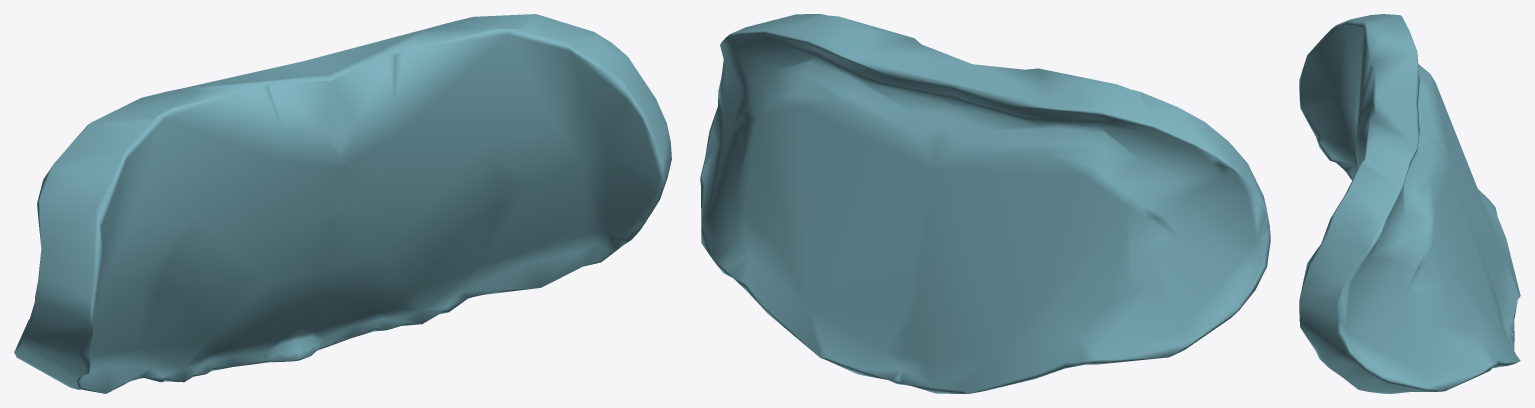
The picture shows the model from 3 angles, left to right: view 1: azimuth 30°, elevation 25°; view 2: azimuth 150°, elevation 25°; view 3: azimuth 270°, elevation 25°; orthographic projection. The views are drawn at different scales.
Parts seen in each view (by area): view 1: 颈5—颈6椎间盘; view 2: 颈5—颈6椎间盘; view 3: 颈5—颈6椎间盘.
Part boxes in pixels (left/top/right/bottom): 颈5—颈6椎间盘: left=14, top=14, right=671, bottom=393; 颈5—颈6椎间盘: left=700, top=14, right=1270, bottom=393; 颈5—颈6椎间盘: left=1299, top=14, right=1520, bottom=393.
Bounding box in the file's own units: 0.0461 × 0.0219 × 0.0174.
